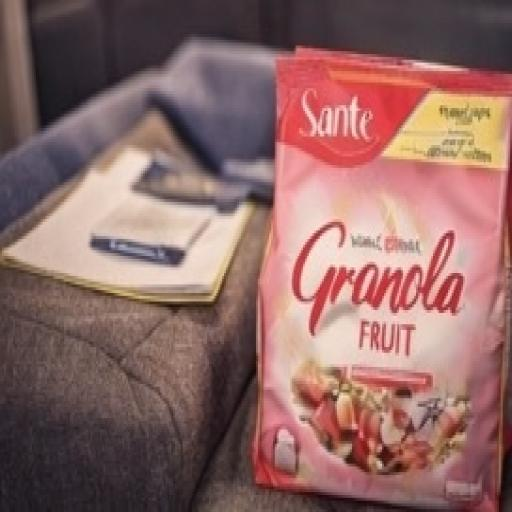granola: (239, 26, 508, 503)
